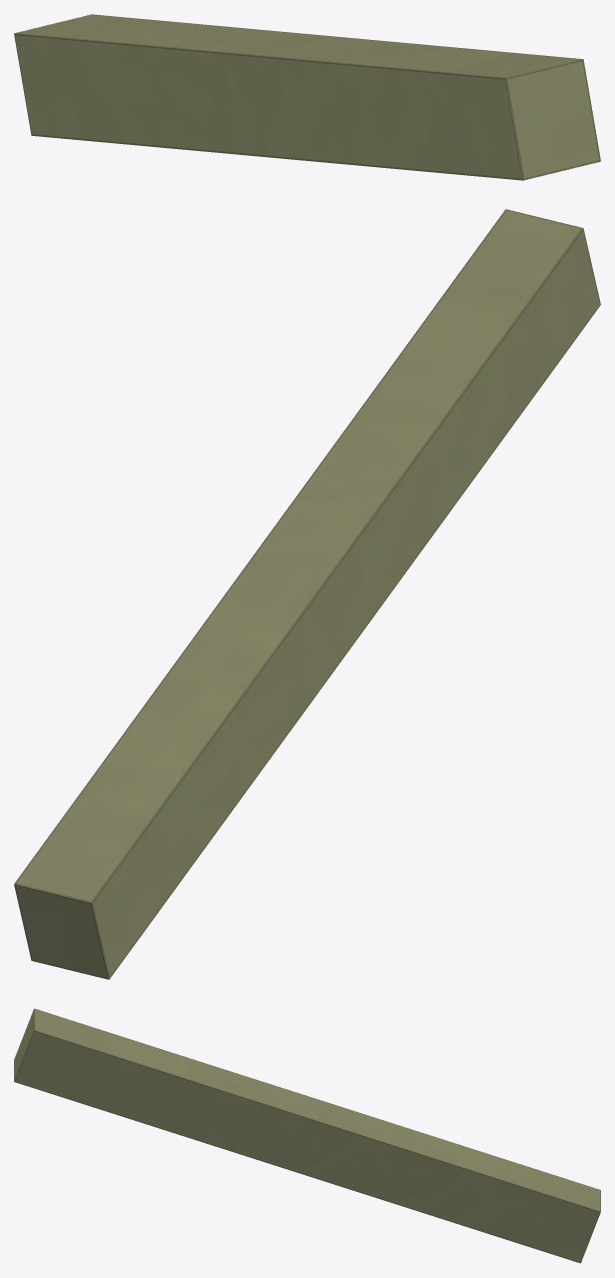
3 views of the same model, one above another, from view 1: azimuth 30°, elevation 25°; view 2: azimuth 150°, elevation 25°; view 3: azimuth 270°, elevation 25° (orthographic). The views are drawn at different scales.
Visible parts, largest first — view 1: part-c; view 2: part-c; view 3: part-c.
Boxes of the visible parts, bbox=[...] form: part-c: bbox=[14, 14, 600, 180]; part-c: bbox=[14, 209, 600, 979]; part-c: bbox=[14, 1008, 600, 1263].
Bounding box in the file's own units: 0.0908 × 0.4497 × 1.03.
